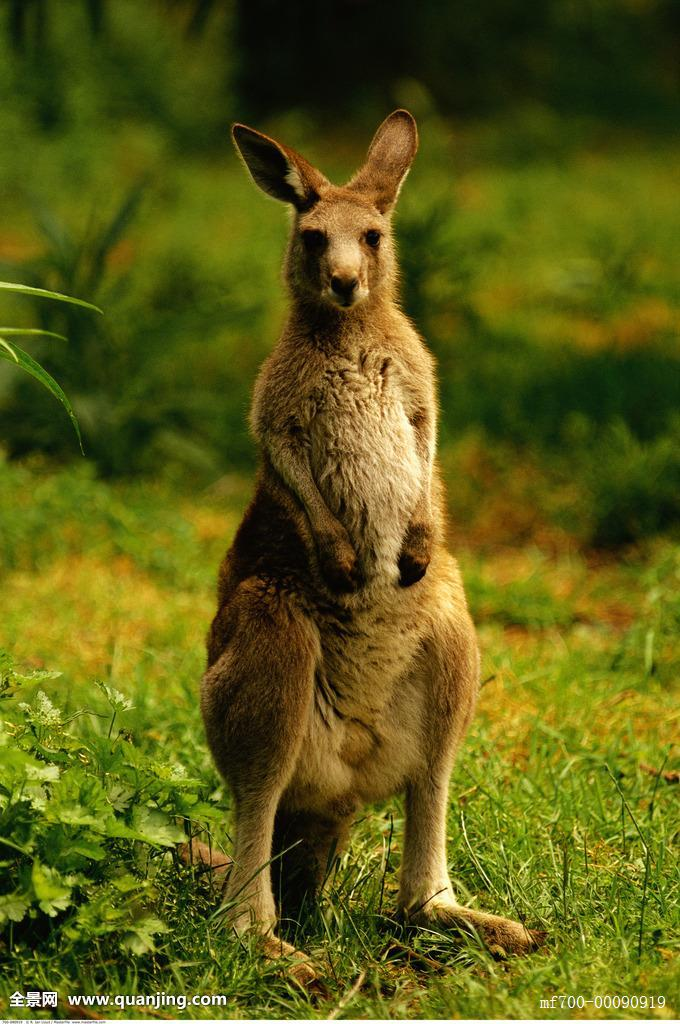kangaroo: (171, 97, 568, 998)
